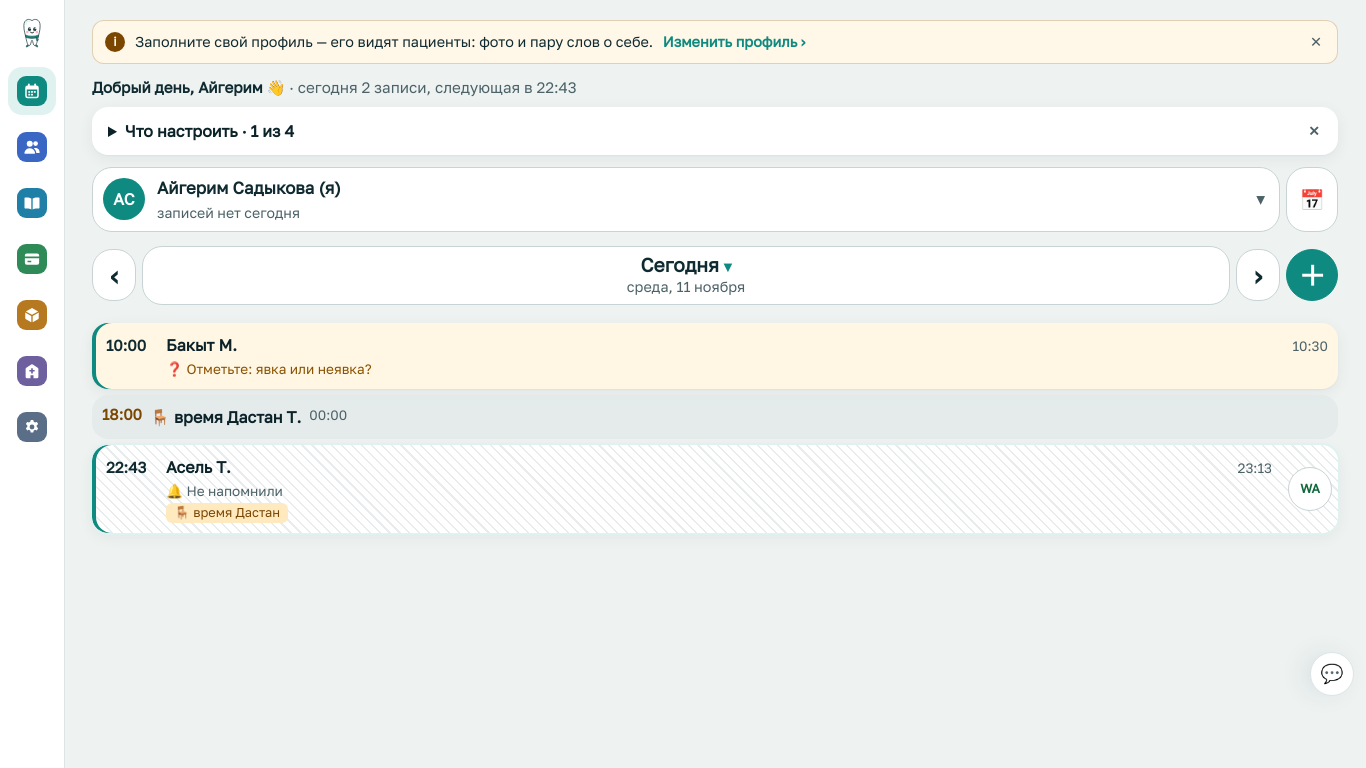
Test: список дня на телефоне: строка «время Дастан» вне часов и бейдж на приёме 22:43; у приёма в своё время — нет
Expected: the list item with aria-label "18:00–00:00: время Дастан Т." shows "🪑 время Дастан Т.", [92,395,1338,439]
Click the button "22:43 Асель Т. 23:13 🔔 Не напомнили 🪑 время Дастан": coordinates (126, 467) [92,445,1282,533]
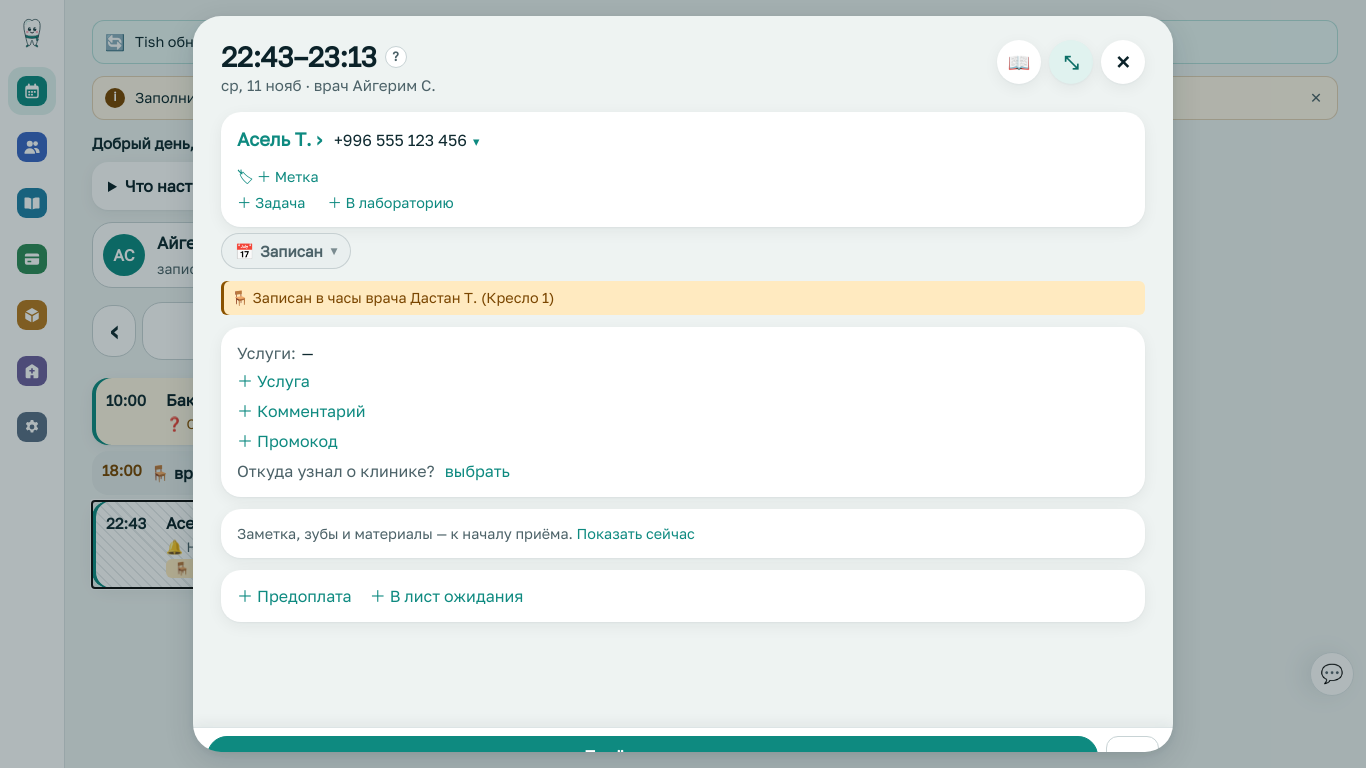
Expected: the text "Записан в часы врача Дастан Т. (Кресло 1)" is shown, [253,289,555,306]
